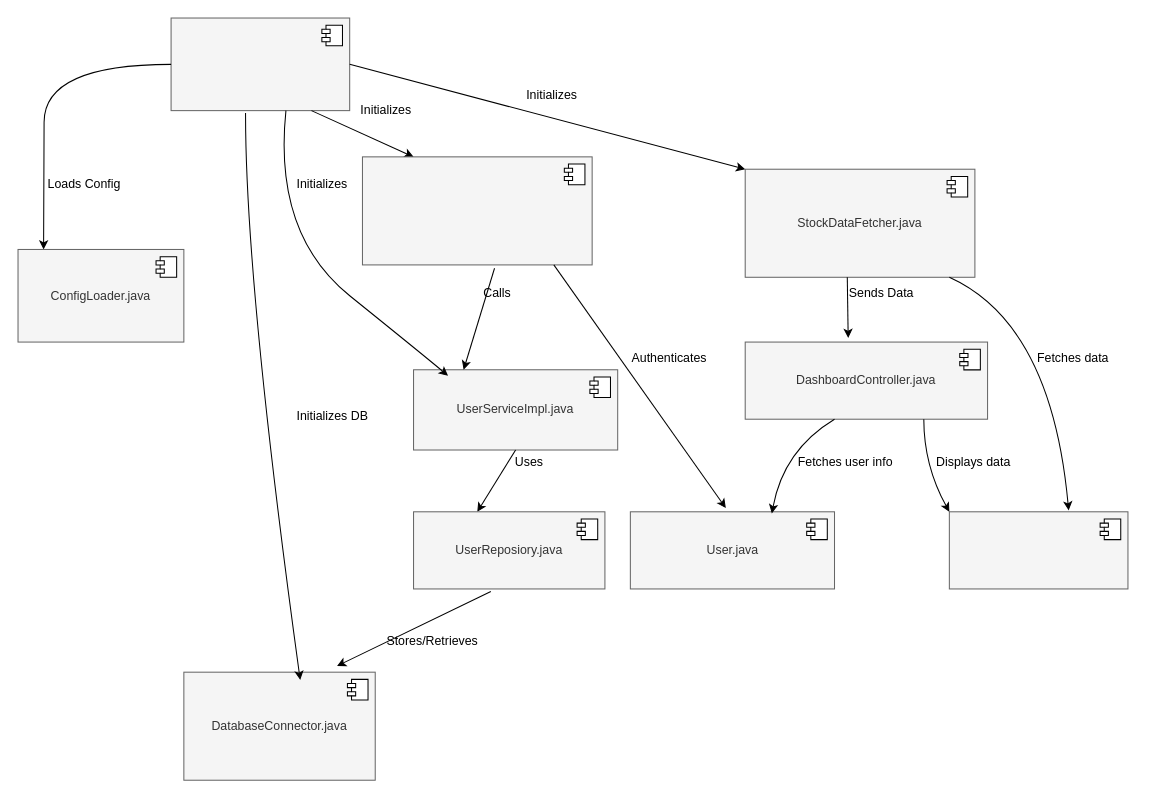
Image size: 1159x798. Some labels were removed from this diagram. The centre of each missing label's shape, as x and y in pixels:
Application.java: (260,64)
AuthenticationController.java: (476,210)
Stock.java: (1038,550)
